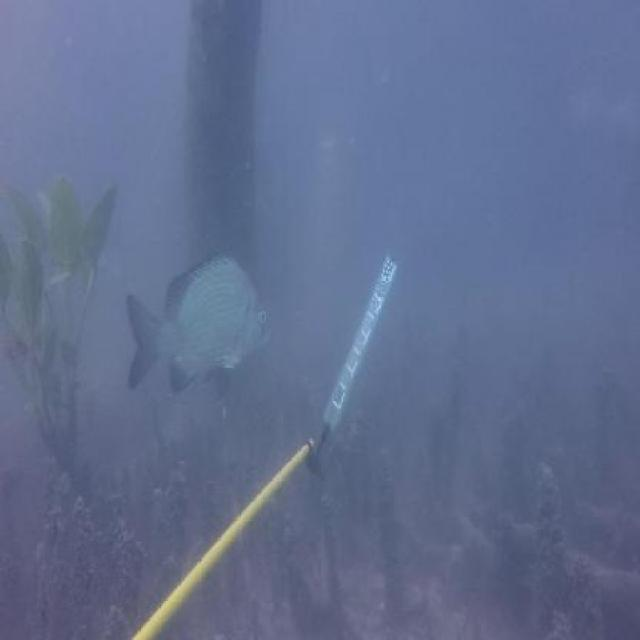acanthopagrus_palmaris: (123, 248, 277, 400)
